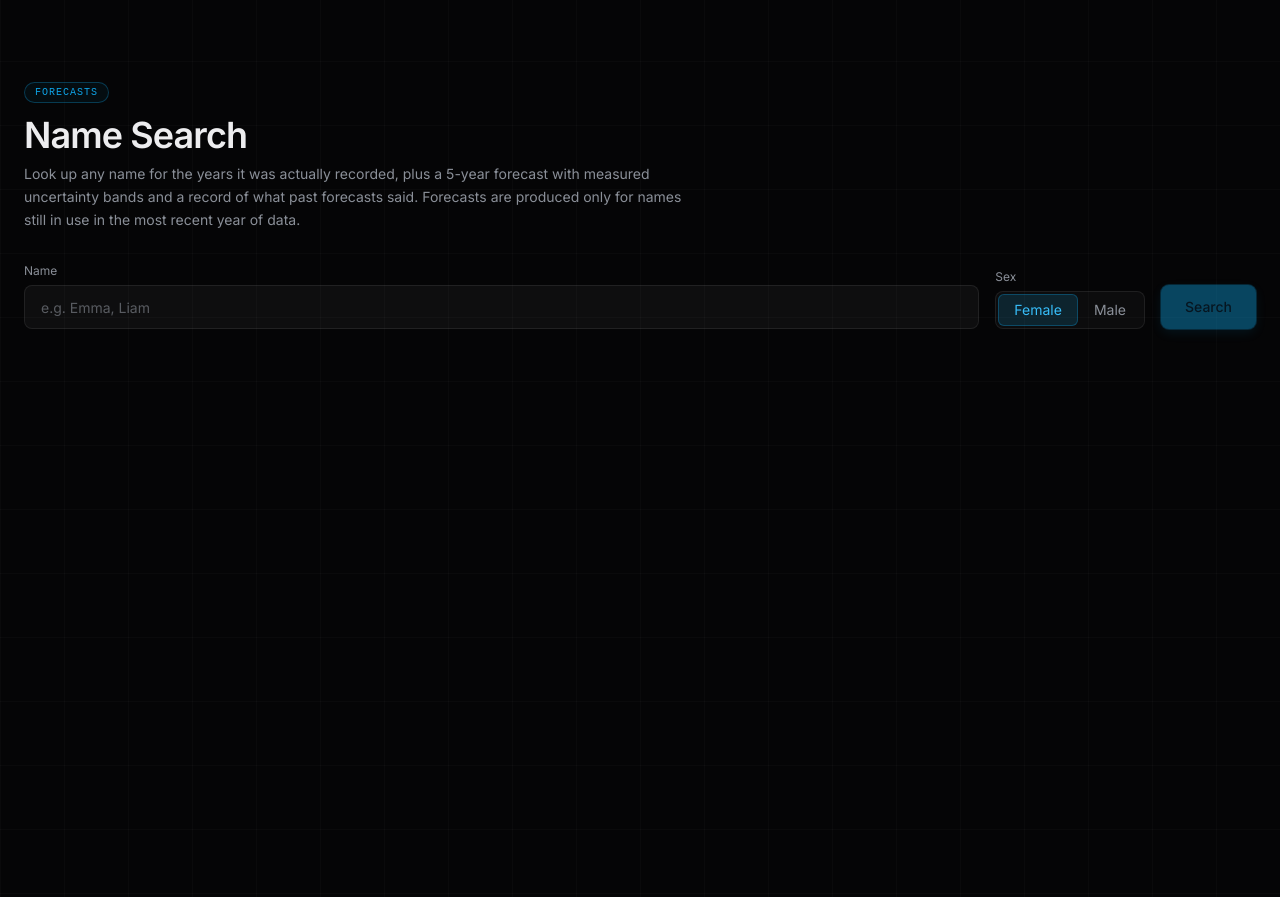
Test: SearchPage track record › opens on what the model said one year ahead
Type "Emma" into the field labelled "Name" at (502, 307), box [24,285,979,329]
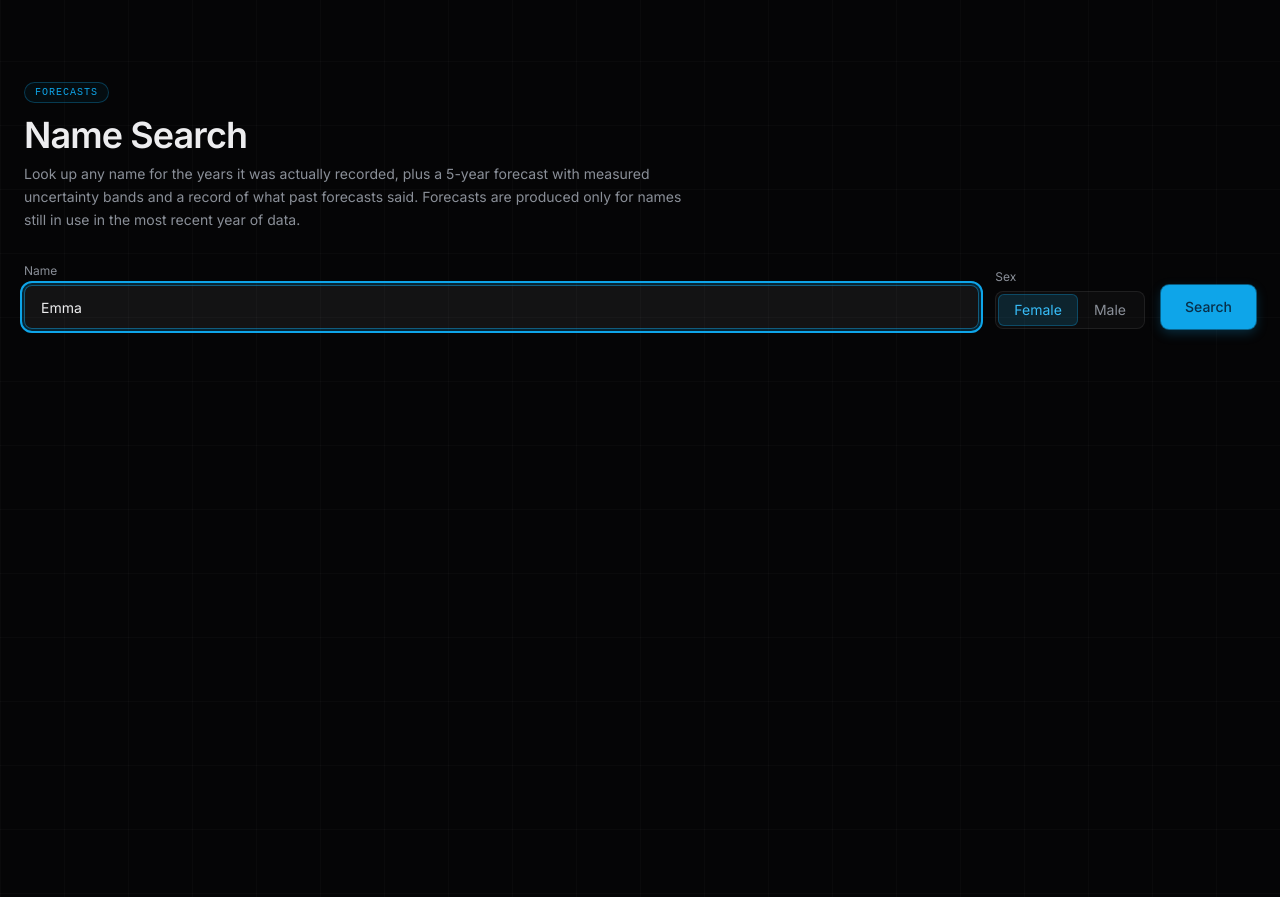
Click the button "Search" at (1208, 307), box [1161,285,1256,329]
(page scrolled)
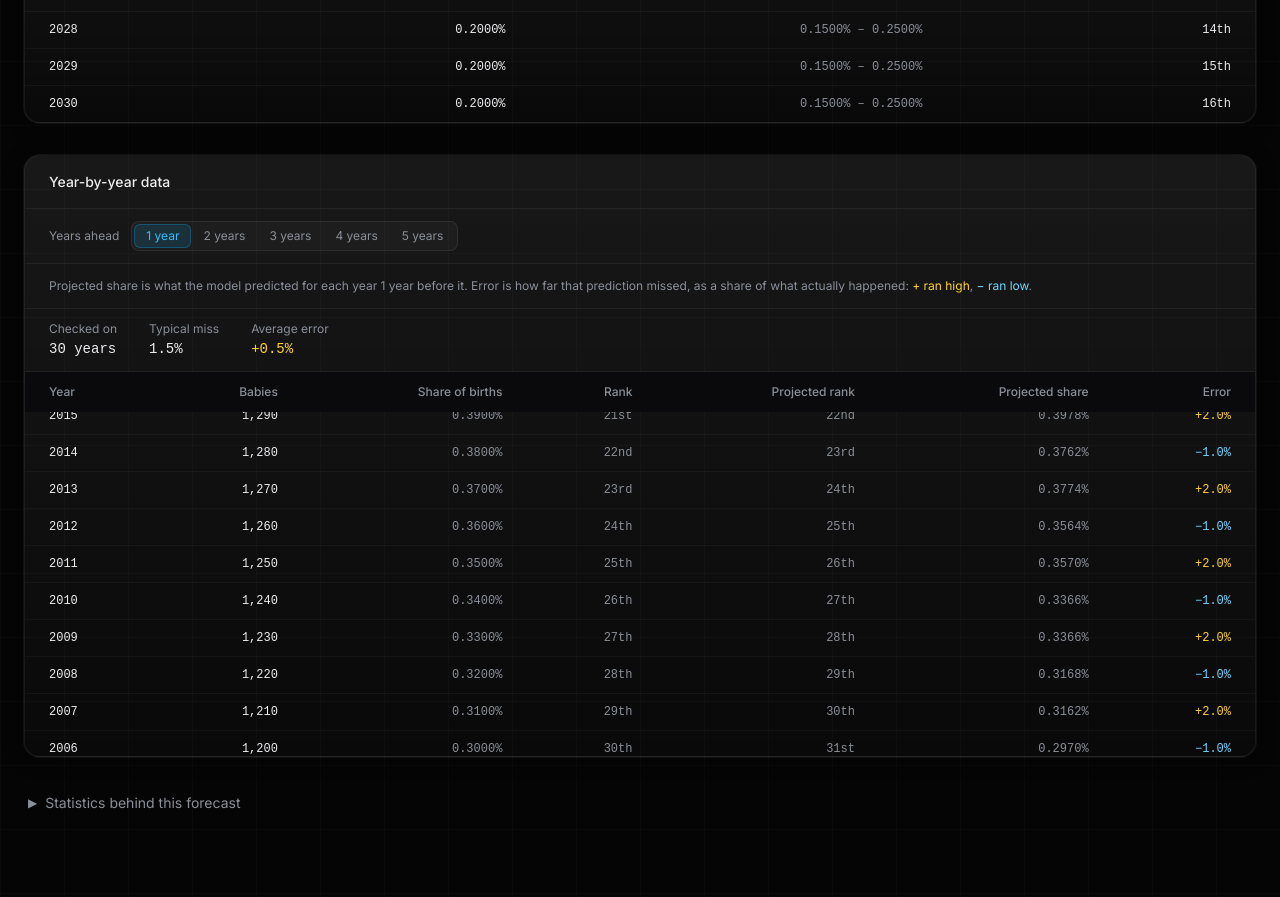
Result: the column heading "Error" is shown at [1113,372,1255,412]
Result: the radio button labelled "1 year" is checked at [134,224,191,248]
Result: the row "2011 1,250 0.3500% 25th 26th 0.3570% +2.0%" is shown at [25,545,1255,582]
